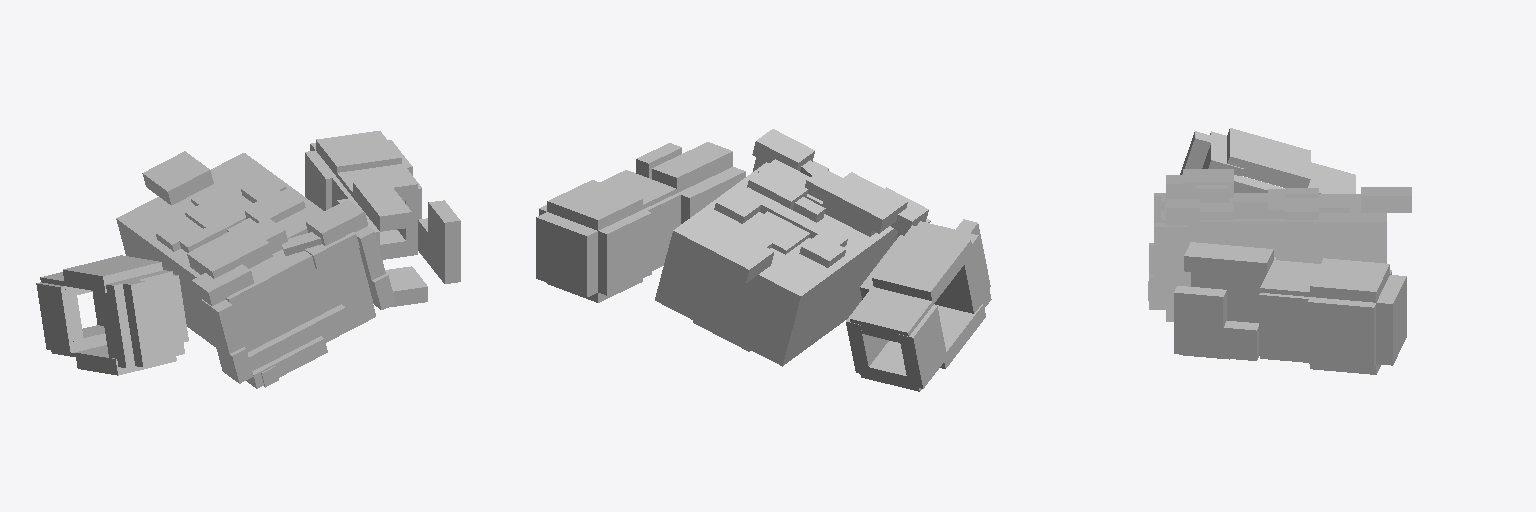
The model's file is x01_chestplate_broken.obj.
The picture shows the model from 3 angles: view 1: azimuth 30°, elevation 25°; view 2: azimuth 150°, elevation 25°; view 3: azimuth 270°, elevation 25°; orthographic projection.
Visible parts, largest first — view 1: Body.063_Body.277; view 2: Body.063_Body.277; view 3: Body.063_Body.277.
Boxes of the visible parts, x1,y1,x2,y2 form: Body.063_Body.277: [36, 131, 460, 388]; Body.063_Body.277: [536, 129, 991, 391]; Body.063_Body.277: [1148, 128, 1411, 374].
Size of the model in its own units: 1.55 by 0.5951 by 0.975.